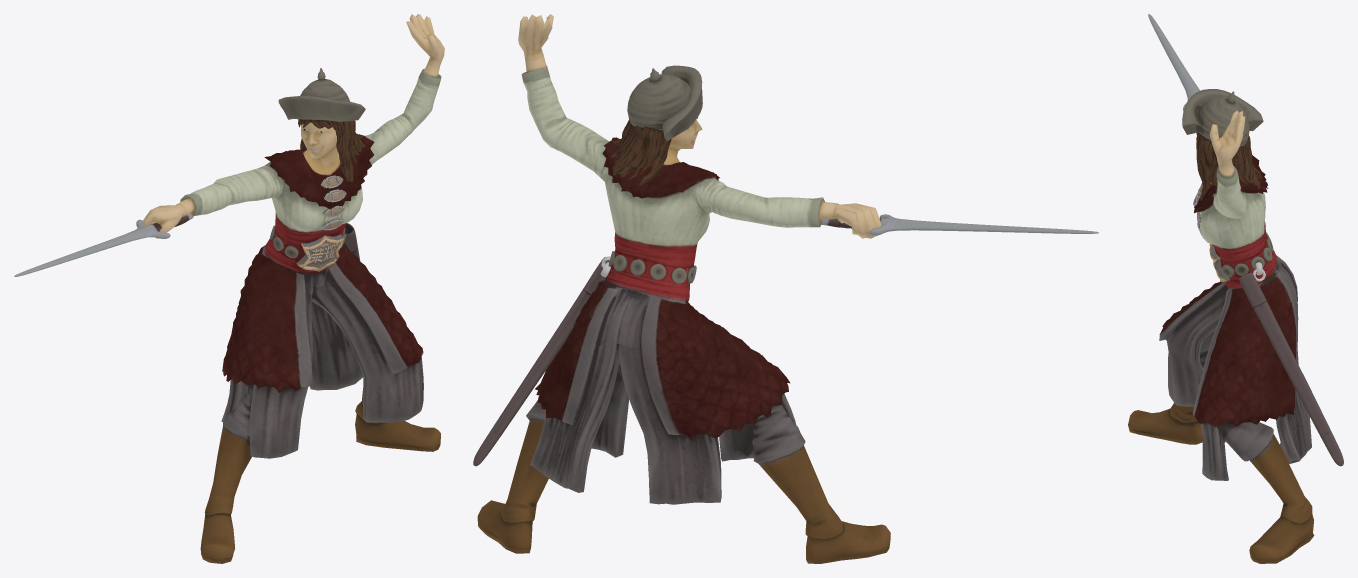
The model's file is MZ4250 - Pirate Captain Female.glb.
The picture shows the model from 3 angles, left to right: view 1: azimuth 30°, elevation 25°; view 2: azimuth 150°, elevation 25°; view 3: azimuth 270°, elevation 25°; orthographic projection. The views are drawn at different scales.
Parts seen in each view (by area): view 1: buckles.001; view 2: buckles.001; view 3: buckles.001.
Part boxes in pixels (bbox=[...]): buckles.001: bbox=[14, 14, 444, 563]; buckles.001: bbox=[473, 14, 1099, 563]; buckles.001: bbox=[1128, 14, 1343, 563].
Bounding box in the file's own units: 106 × 92.95 × 41.77.
8 materials, 8 textured.
